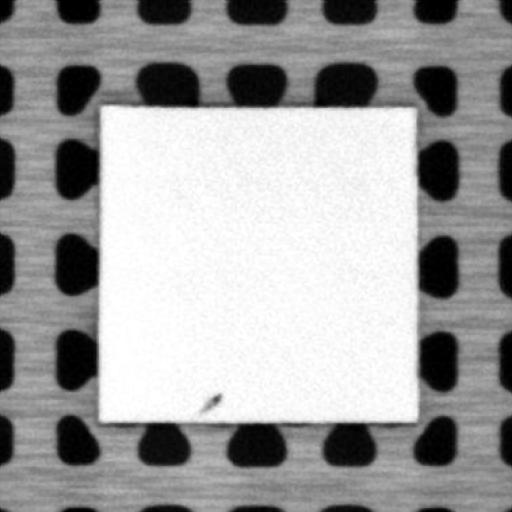DIE_INK: (195, 391, 221, 416)
